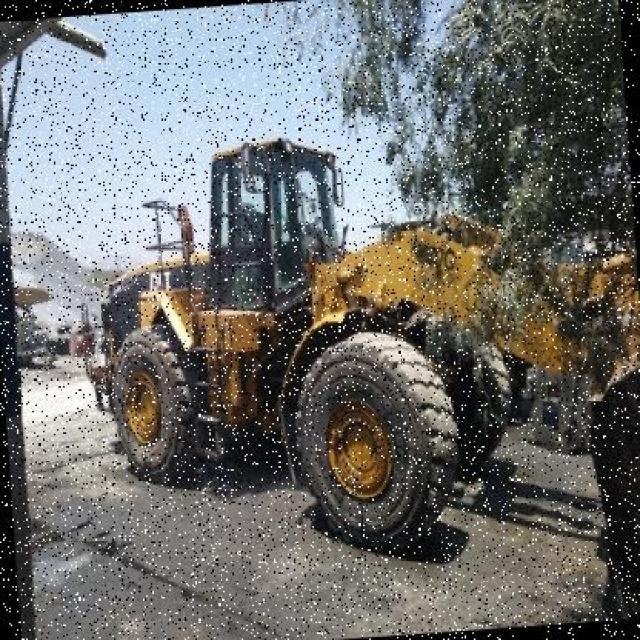buldozerpayloadergrader: (59, 117, 538, 575)
